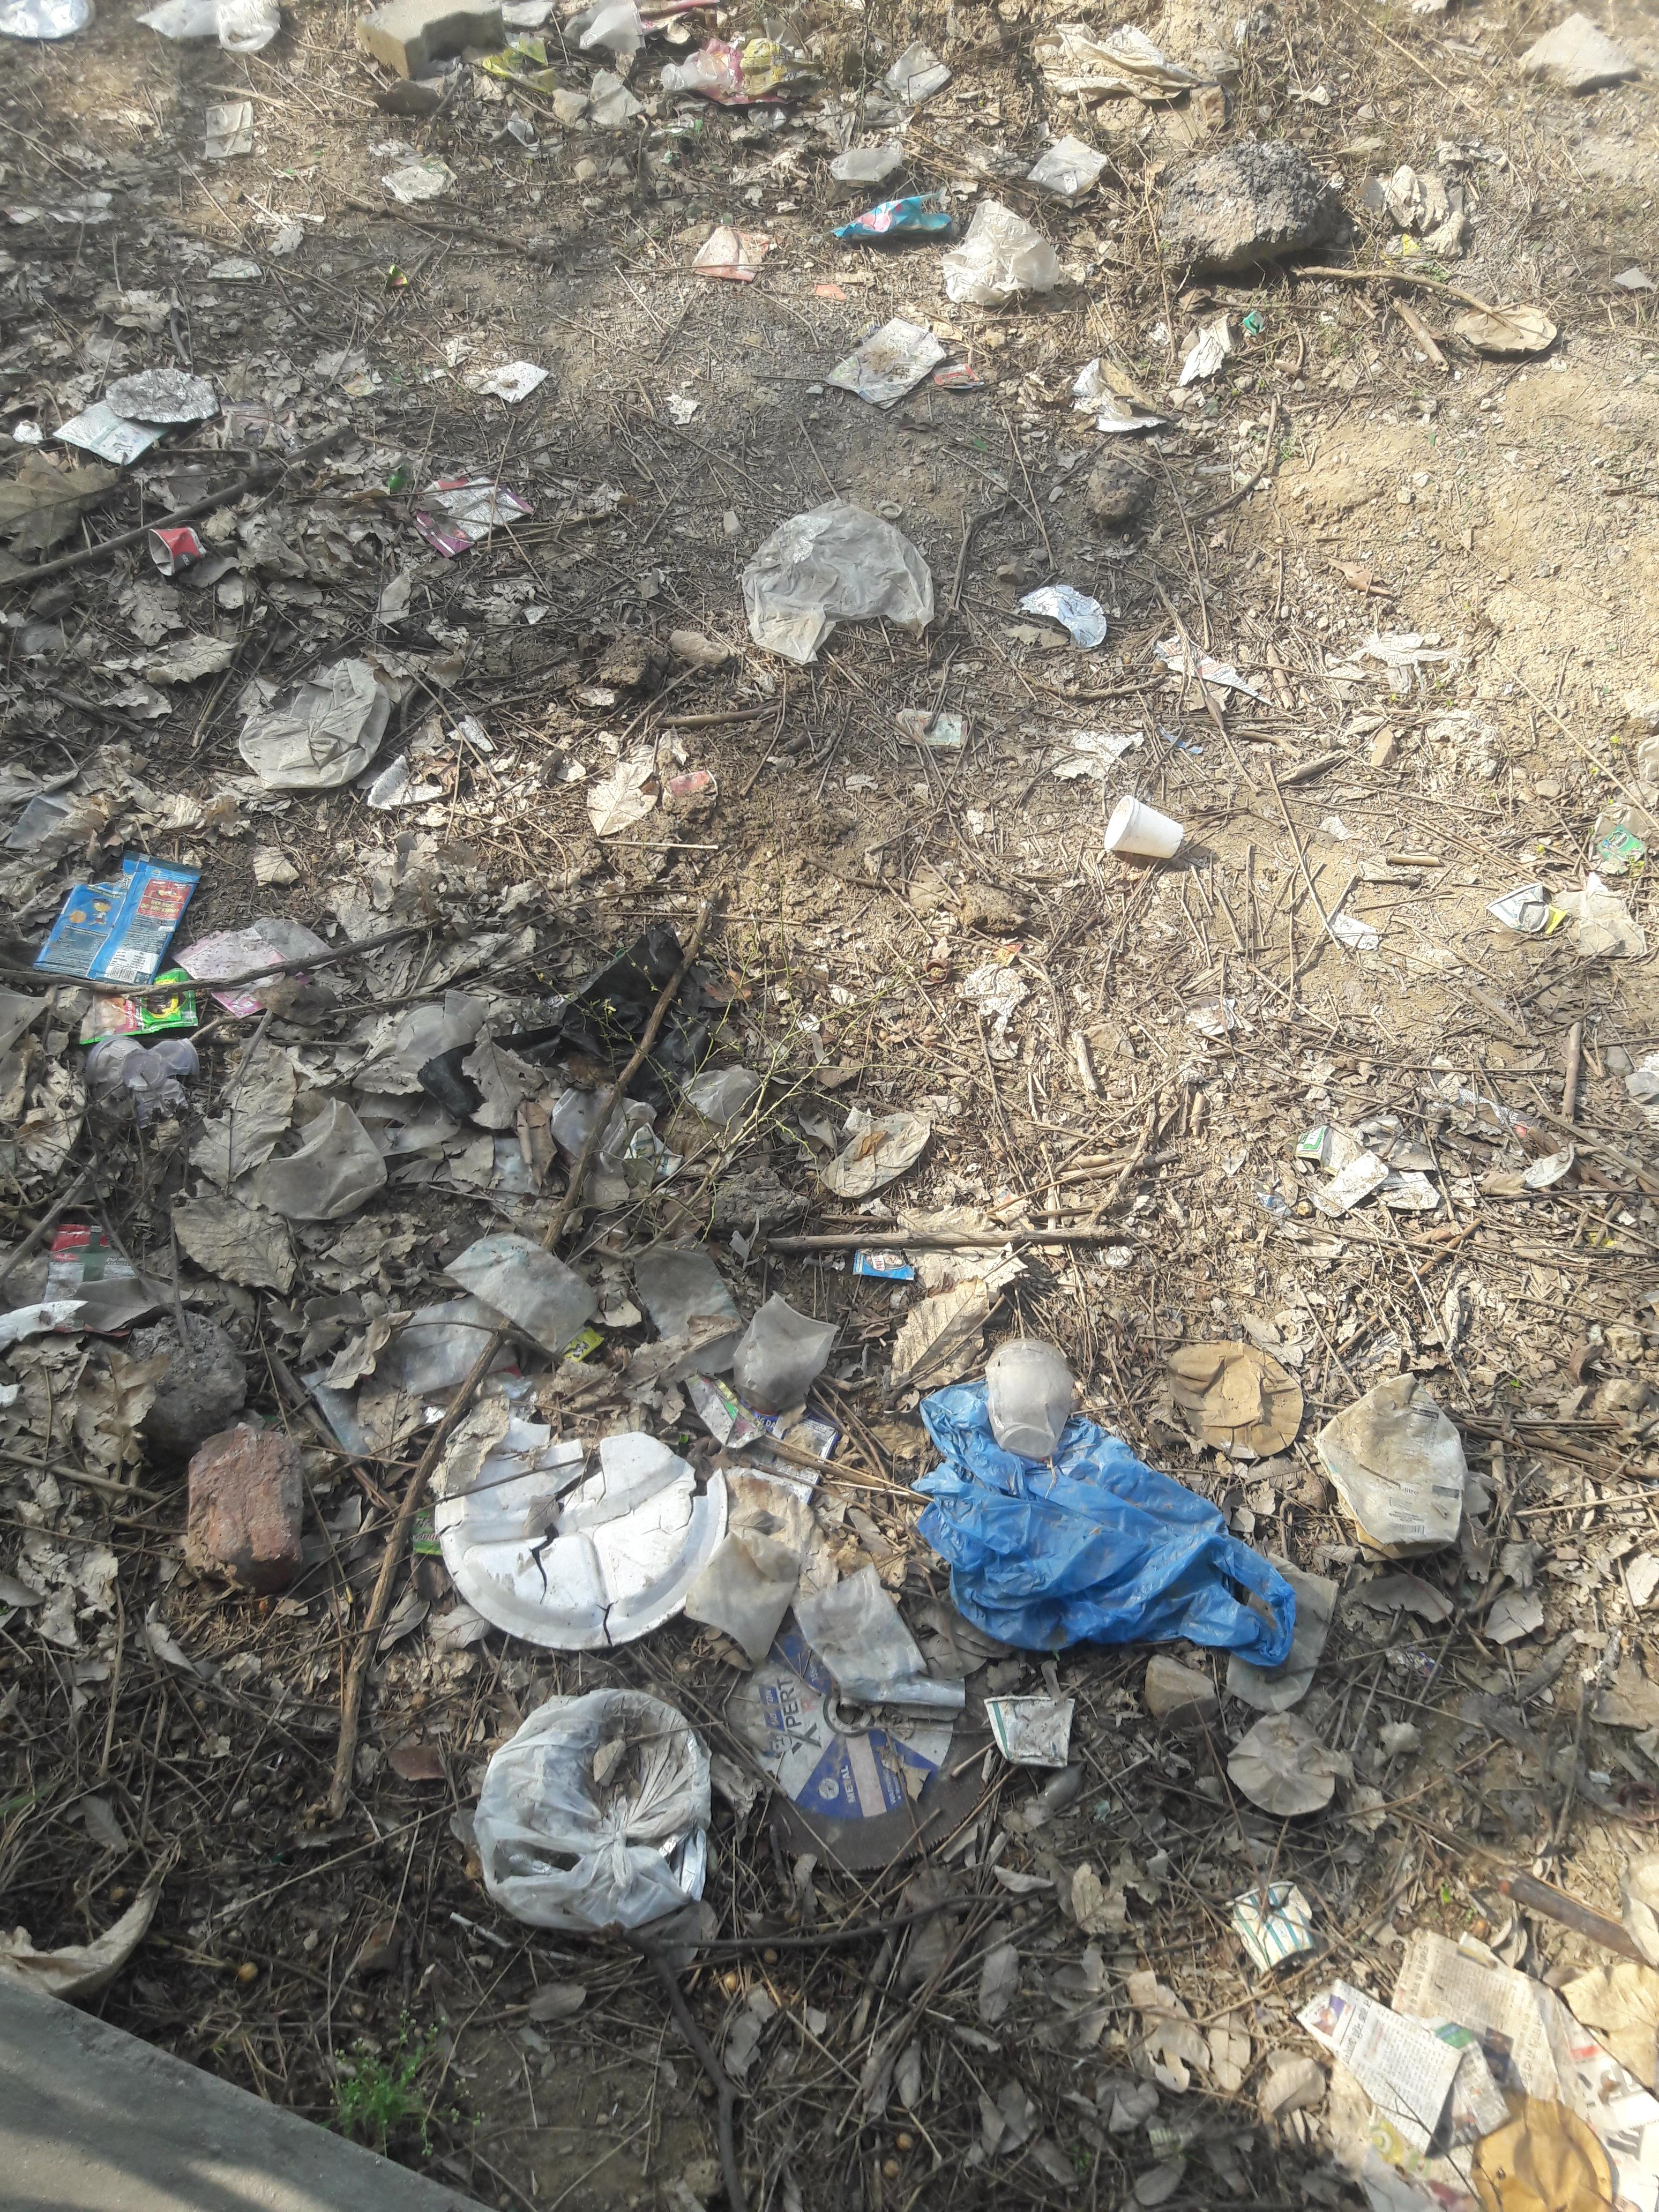trash: (404, 1289, 1356, 1954)
